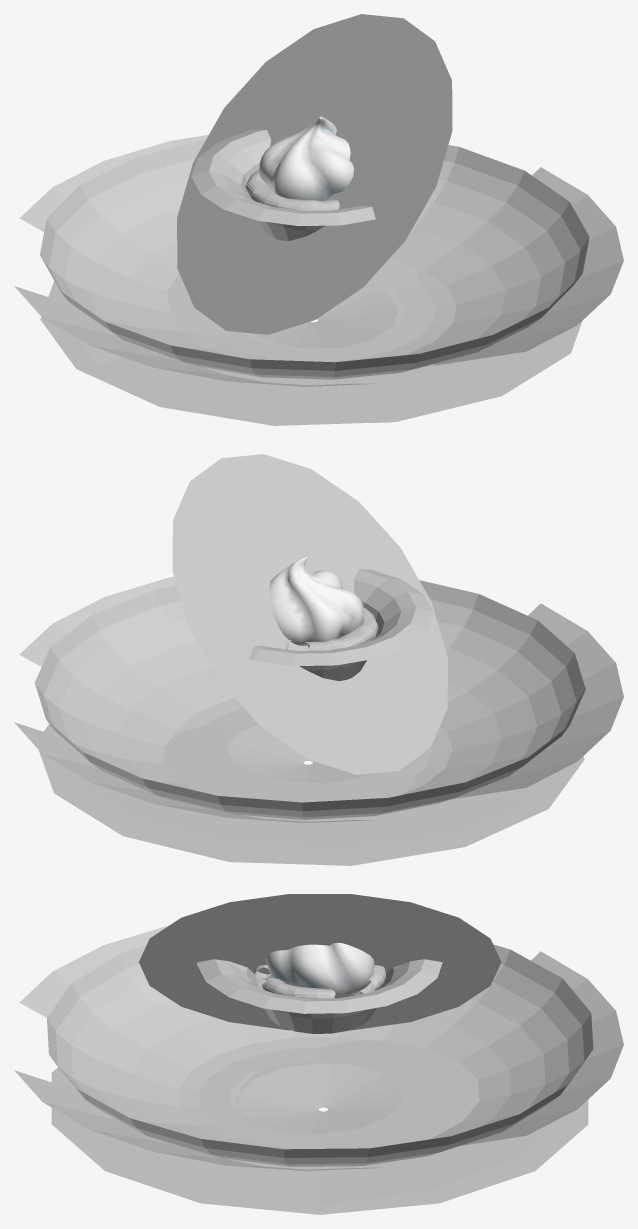
The model's file is pref_fx_score_commonblast_02_055701_lv3.fbx.
3 renders of one model, top to bottom at view 1: azimuth 30°, elevation 25°; view 2: azimuth 150°, elevation 25°; view 3: azimuth 270°, elevation 25°, orthographic.
Parts seen in each view (by area): view 1: sm_kuosan, sm_glow_01, sm_huan1, sm_glow_02, sm_yan, tip02_ani, naiyou_02, sm_huan, sm_fx_naiyou_score_01; view 2: sm_kuosan, sm_glow_01, sm_huan, sm_glow_02, sm_yan, sm_huan1, tip02_ani, naiyou_02, sm_fx_naiyou_score_01; view 3: sm_kuosan, sm_glow_01, sm_huan1, sm_huan, sm_yan, tip02_ani, naiyou_02, sm_glow_02, sm_fx_naiyou_score_01.
Part boxes in pixels (bbox=[...]): sm_kuosan: bbox=[40, 139, 589, 379]; sm_glow_01: bbox=[177, 14, 452, 334]; sm_huan1: bbox=[40, 281, 582, 425]; sm_glow_02: bbox=[189, 39, 439, 309]; sm_yan: bbox=[14, 135, 623, 386]; tip02_ani: bbox=[191, 129, 375, 240]; naiyou_02: bbox=[259, 116, 353, 201]; sm_huan: bbox=[67, 256, 419, 422]; sm_fx_naiyou_score_01: bbox=[245, 169, 339, 210]; sm_kuosan: bbox=[34, 580, 585, 819]; sm_glow_01: bbox=[172, 454, 447, 774]; sm_huan: bbox=[60, 720, 528, 848]; sm_glow_02: bbox=[220, 479, 434, 749]; sm_yan: bbox=[14, 576, 623, 822]; sm_huan1: bbox=[38, 708, 584, 865]; tip02_ani: bbox=[249, 569, 433, 681]; naiyou_02: bbox=[269, 557, 363, 645]; sm_fx_naiyou_score_01: bbox=[285, 607, 378, 650]; sm_kuosan: bbox=[47, 944, 593, 1166]; sm_glow_01: bbox=[139, 894, 501, 1030]; sm_huan1: bbox=[51, 1047, 588, 1214]; sm_huan: bbox=[236, 1040, 556, 1205]; sm_yan: bbox=[14, 925, 623, 1170]; tip02_ani: bbox=[197, 959, 442, 1033]; naiyou_02: bbox=[266, 943, 374, 994]; sm_glow_02: bbox=[204, 918, 435, 1006]; sm_fx_naiyou_score_01: bbox=[254, 965, 385, 998].
Bounding box in the file's own units: 10.72 × 5.18 × 10.58.
